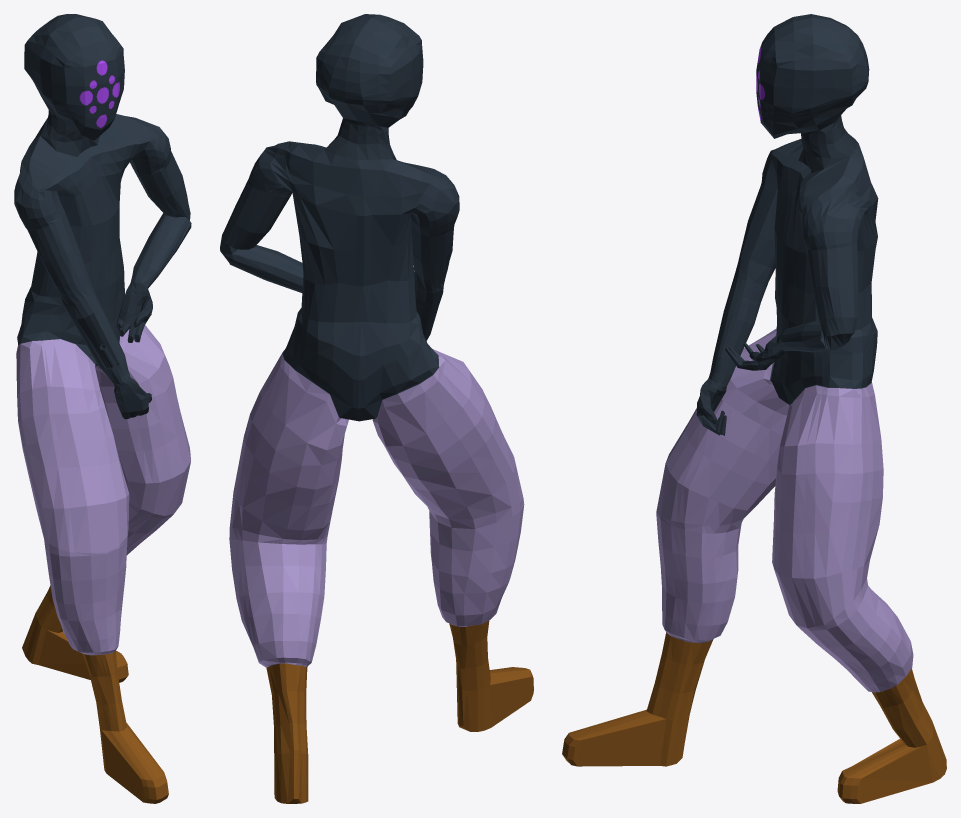
Rendered from Oracle_WF_000016.obj.
The picture shows the model from 3 angles, left to right: view 1: azimuth 30°, elevation 25°; view 2: azimuth 150°, elevation 25°; view 3: azimuth 270°, elevation 25°; orthographic projection. The views are drawn at different scales.
Parts seen in each view (by area): view 1: Cube; view 2: Cube; view 3: Cube.
Part boxes in pixels (x1,y1,x2,y2): Cube: (14, 14, 191, 803); Cube: (220, 14, 533, 803); Cube: (562, 14, 946, 803).
Size of the model in its own units: 1.17 by 3.77 by 1.73.
